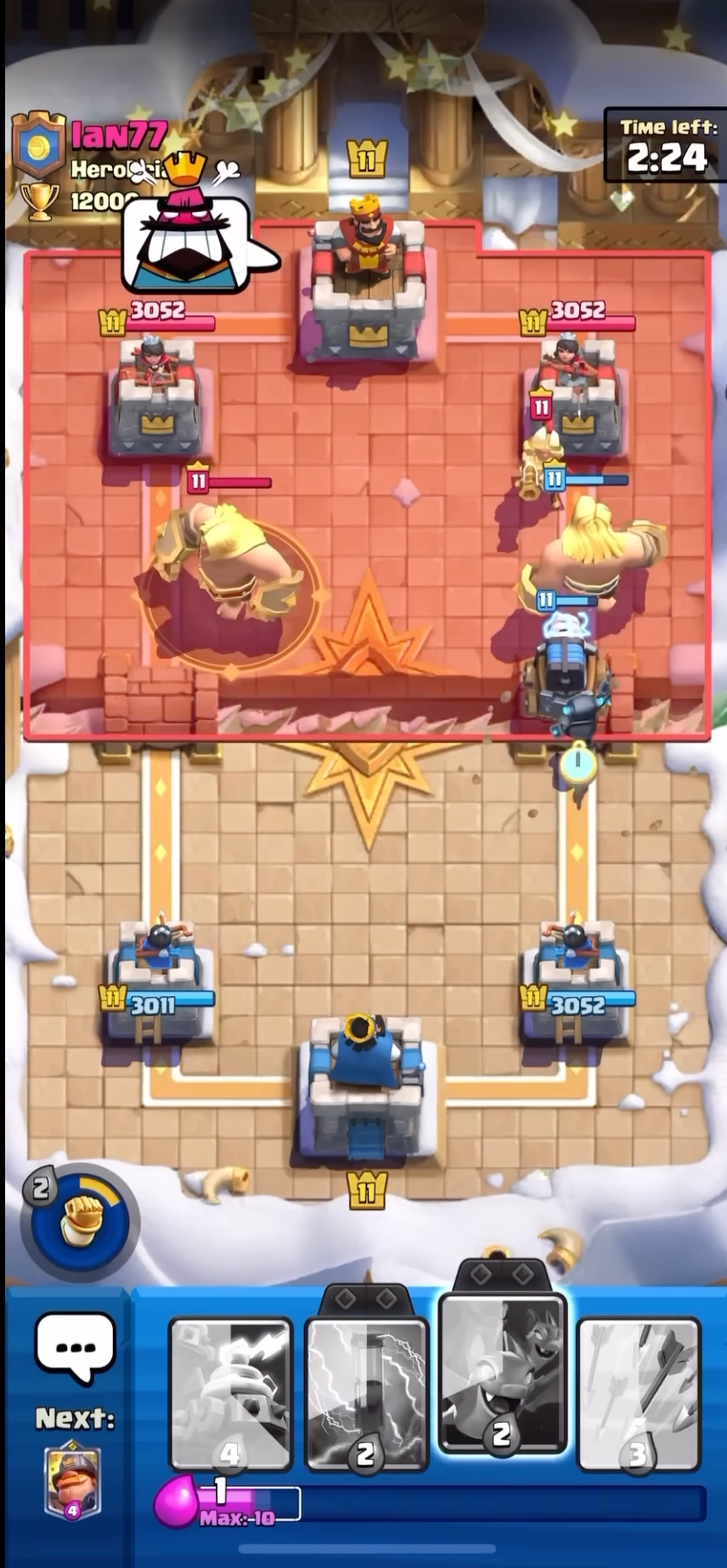hero-giant: (141, 459, 320, 664)
hero-musketeer: (516, 389, 575, 517)
